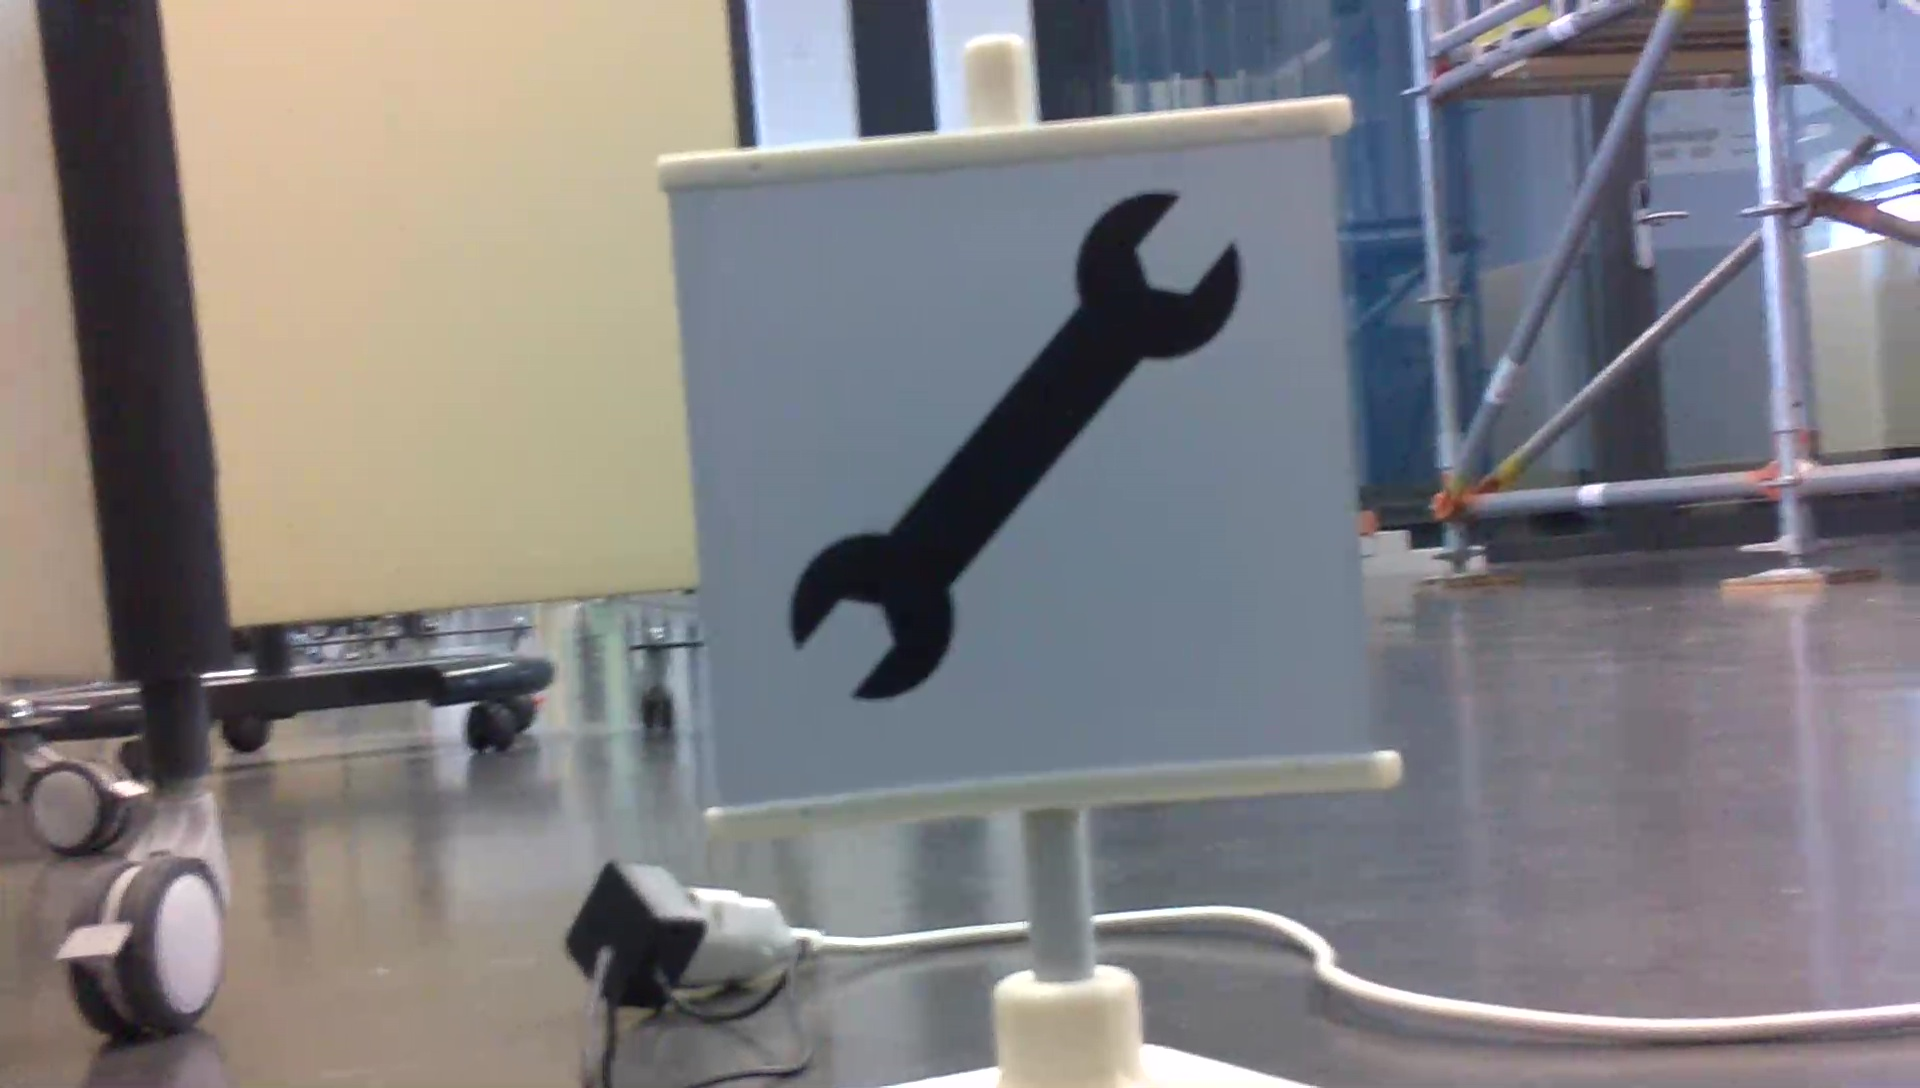wrench: (770, 178, 1255, 713)
